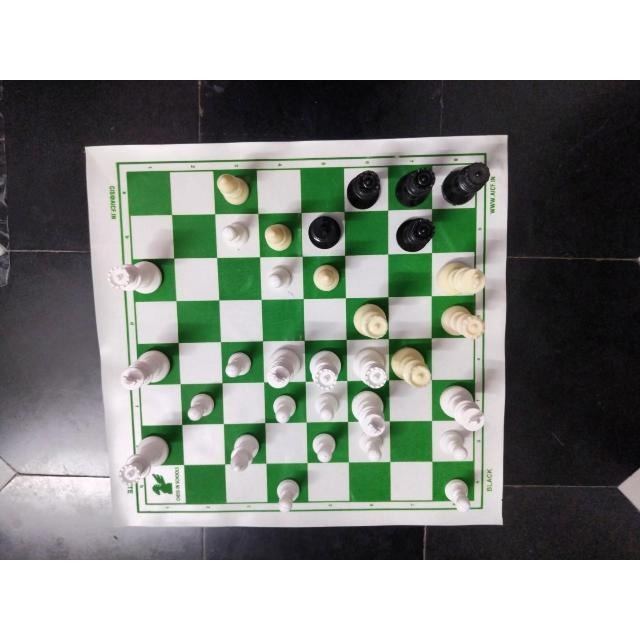black-king: (305, 213, 343, 252)
black-queen: (441, 161, 489, 209), (392, 163, 436, 209), (341, 167, 383, 211), (391, 215, 434, 252)
white-bishop: (225, 434, 261, 476), (214, 171, 251, 207), (258, 219, 295, 253), (308, 263, 342, 297)
white-king: (438, 383, 489, 431), (118, 348, 172, 390), (435, 257, 489, 297), (348, 389, 389, 436), (263, 345, 303, 391)
white-pawn: (438, 477, 477, 514), (271, 475, 305, 515), (434, 430, 473, 460), (222, 348, 254, 384), (182, 391, 218, 423), (308, 430, 340, 464), (217, 216, 249, 249), (268, 392, 297, 424), (265, 262, 293, 294), (310, 393, 342, 421), (356, 432, 384, 464)
white-queen: (119, 432, 173, 489), (105, 262, 164, 298), (439, 301, 487, 343), (391, 343, 431, 388), (348, 300, 388, 342), (308, 346, 344, 392), (352, 343, 388, 388)
